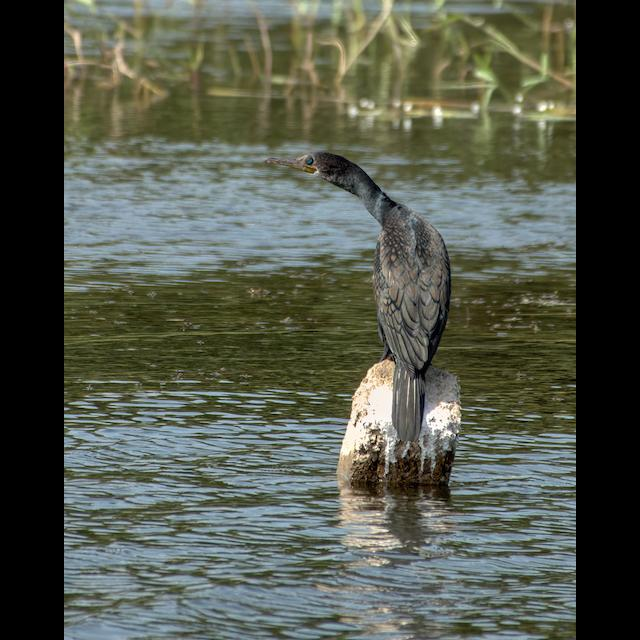cormorant: (243, 152, 463, 466)
